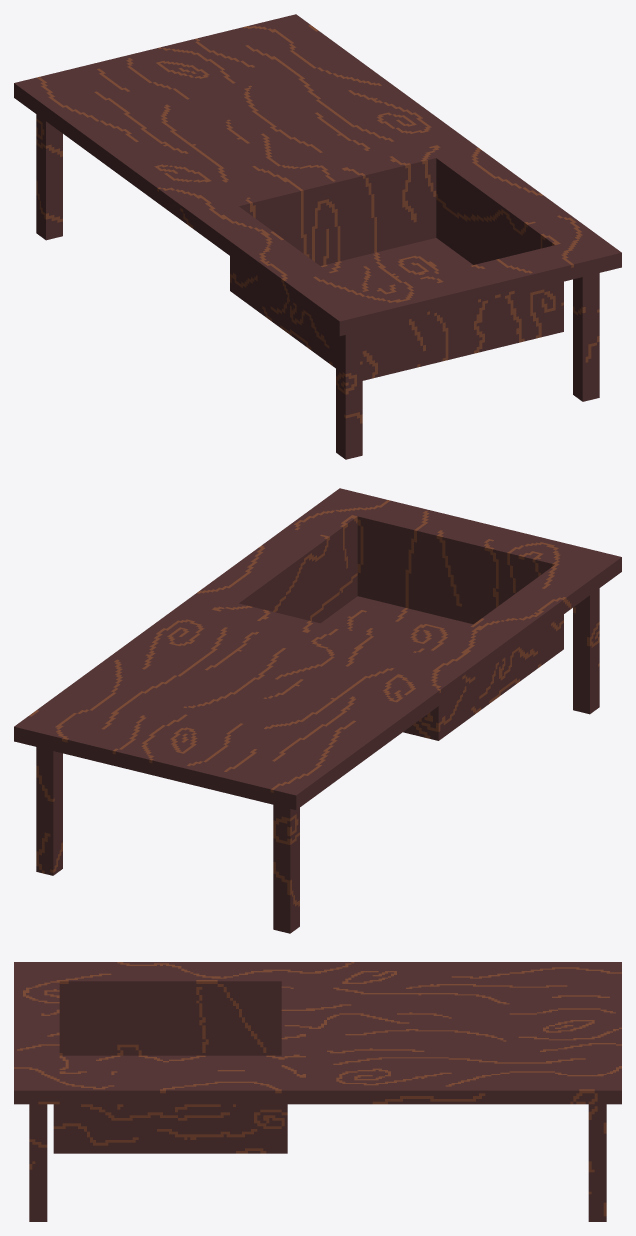
File: playground-3.obj
3 views of the same model, one above another, from view 1: azimuth 30°, elevation 25°; view 2: azimuth 150°, elevation 25°; view 3: azimuth 270°, elevation 25° (orthographic). The views are drawn at different scales.
Bounding box in the file's own units: 10 × 5 × 20.
Materials: 1 (1 with a texture image).
